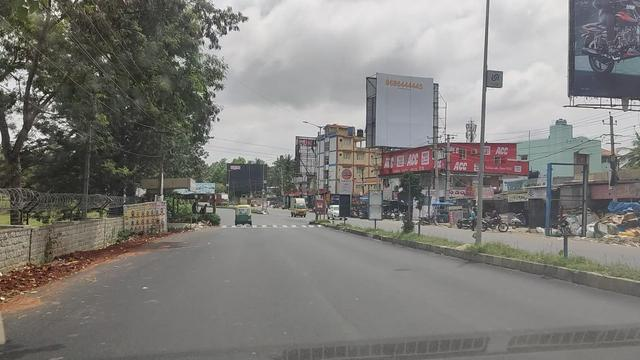LMV: (236, 204, 251, 221)
SpeedBump: (226, 223, 324, 230)
